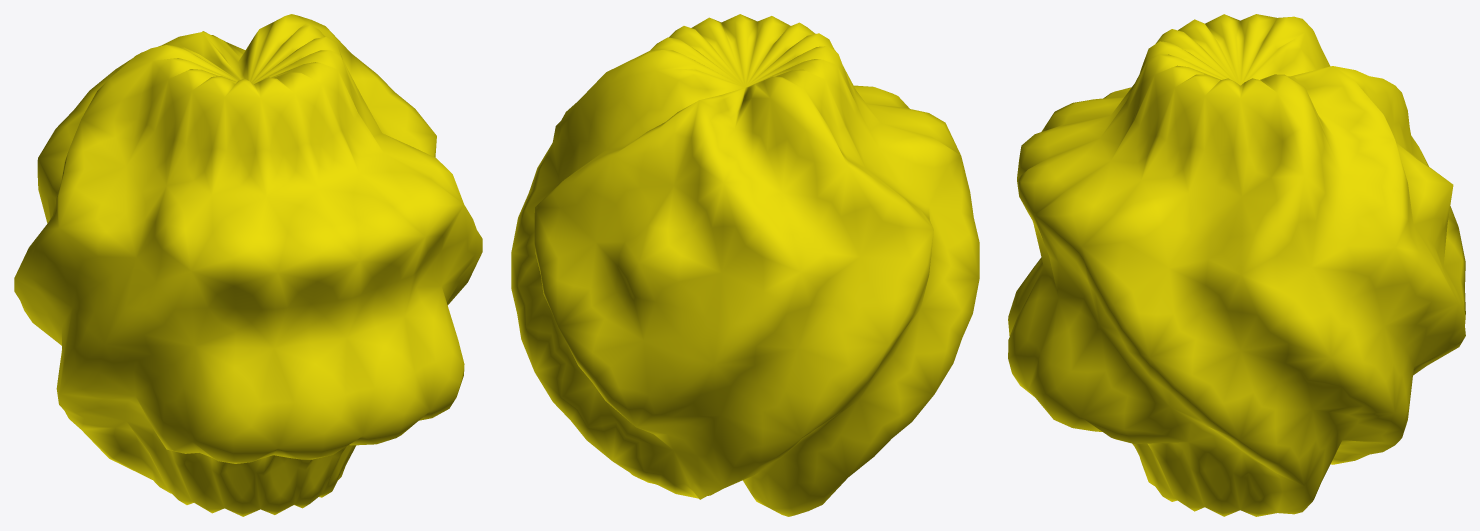
Rendered from Ialga.fbx.
The picture shows the model from 3 angles, left to right: view 1: azimuth 30°, elevation 25°; view 2: azimuth 150°, elevation 25°; view 3: azimuth 270°, elevation 25°; orthographic projection.
Visible parts, largest first — view 1: Ialga; view 2: Ialga; view 3: Ialga.
Boxes of the visible parts, x1,y1,x2,y2 form: Ialga: [14, 14, 482, 516]; Ialga: [511, 14, 979, 516]; Ialga: [1008, 14, 1465, 516].
Size of the model in its own units: 17.55 by 18.45 by 17.29.
